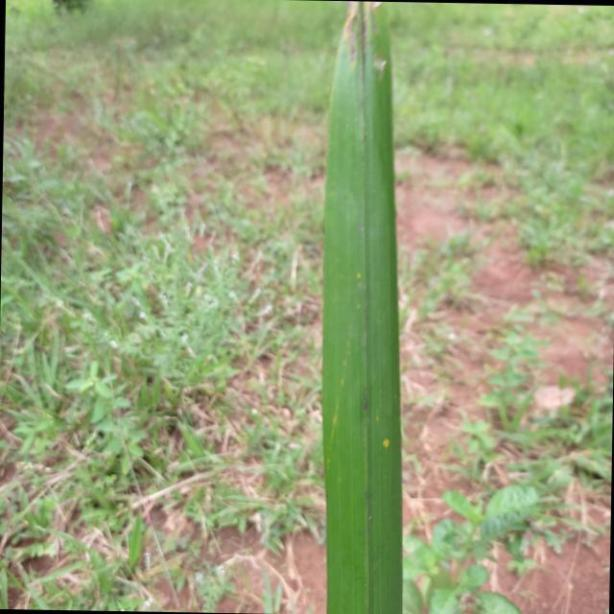Kalium: (318, 0, 403, 614)
